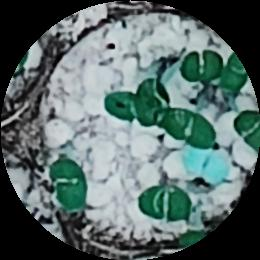Basil: (162, 112, 217, 149), (139, 185, 194, 220), (52, 160, 90, 210), (106, 94, 158, 127), (182, 49, 223, 84), (139, 80, 170, 121), (230, 110, 260, 151), (224, 50, 246, 99)
